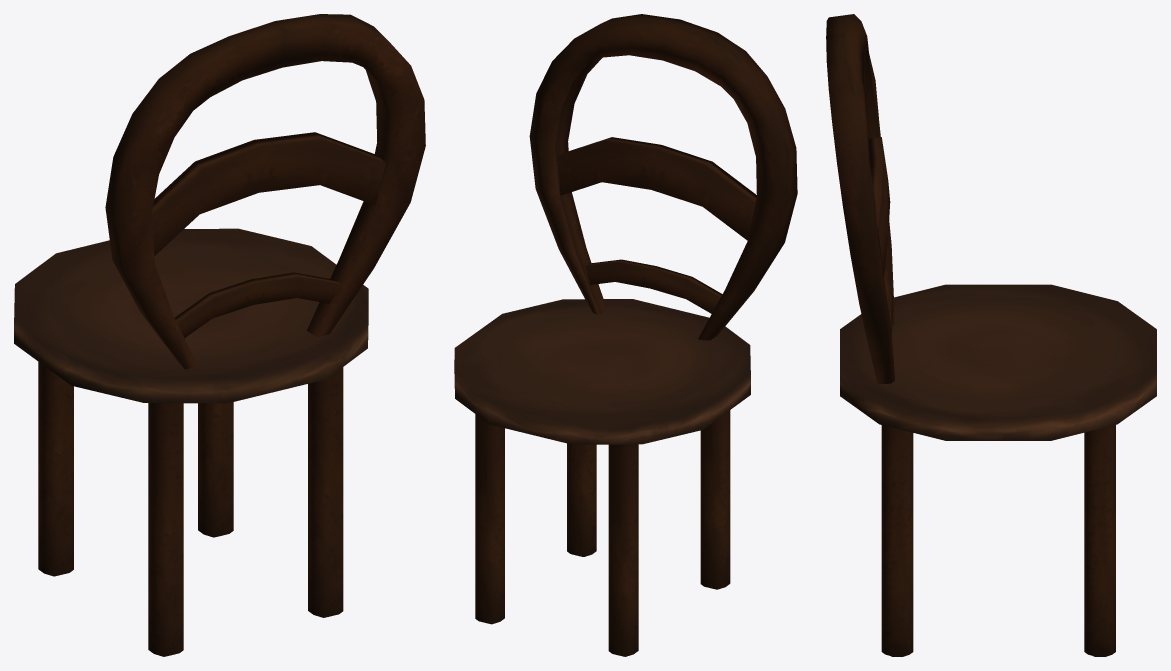
The model's file is Chair_H.fbx.
3 views of the same model, side by side, from view 1: azimuth 30°, elevation 25°; view 2: azimuth 150°, elevation 25°; view 3: azimuth 270°, elevation 25° (orthographic). The views are drawn at different scales.
Visible parts, largest first — view 1: Chair_Backing_B, Chair_Base_B, Chair_Legs_B; view 2: Chair_Backing_B, Chair_Base_B, Chair_Legs_B; view 3: Chair_Base_B, Chair_Backing_B, Chair_Legs_B.
Boxes of the visible parts, <box> form: Chair_Backing_B: <box>105,14,425,369</box>; Chair_Base_B: <box>14,228,368,403</box>; Chair_Legs_B: <box>38,362,343,656</box>; Chair_Backing_B: <box>529,14,797,340</box>; Chair_Base_B: <box>454,299,750,444</box>; Chair_Legs_B: <box>475,410,730,656</box>; Chair_Base_B: <box>840,284,1156,440</box>; Chair_Backing_B: <box>826,14,894,384</box>; Chair_Legs_B: <box>881,425,1115,656</box>.
Size of the model in its own units: 5.84 by 11.5 by 5.9.
